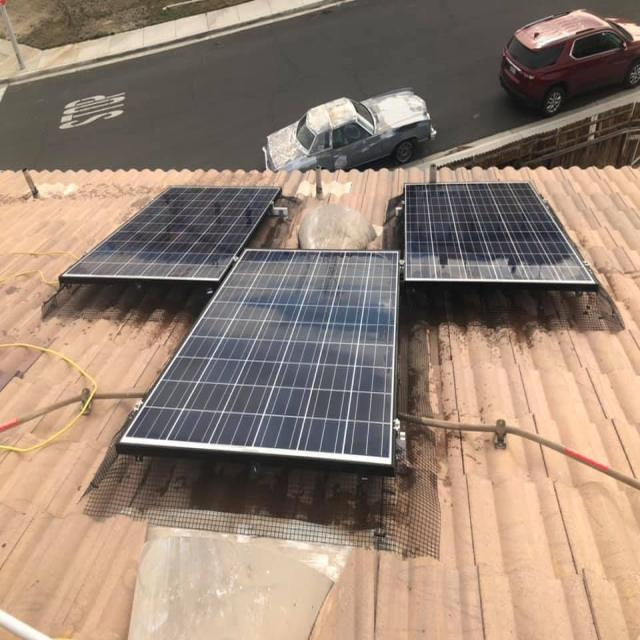clean-solar-panel: (118, 250, 399, 470), (59, 187, 280, 283), (406, 182, 596, 288)
